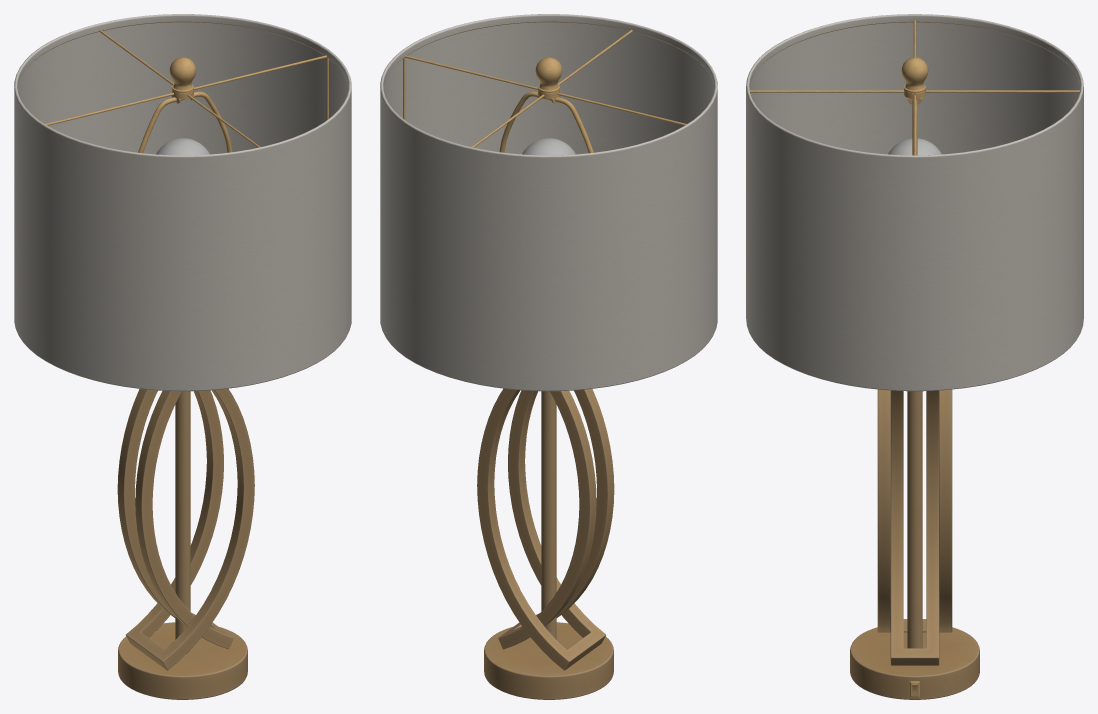
The model's file is lamp.glb.
The picture shows the model from 3 angles, left to right: view 1: azimuth 30°, elevation 25°; view 2: azimuth 150°, elevation 25°; view 3: azimuth 270°, elevation 25°; orthographic projection.
Parts seen in each view (by area): view 1: Table Lamp Gold; view 2: Table Lamp Gold; view 3: Table Lamp Gold.
Part boxes in pixels (<box>): Table Lamp Gold: <box>14,14,351,699</box>; Table Lamp Gold: <box>380,14,717,699</box>; Table Lamp Gold: <box>746,14,1083,699</box>.
Bounding box in the file's own units: 0.3301 × 0.6621 × 0.3297.
1 material, 1 textured.
